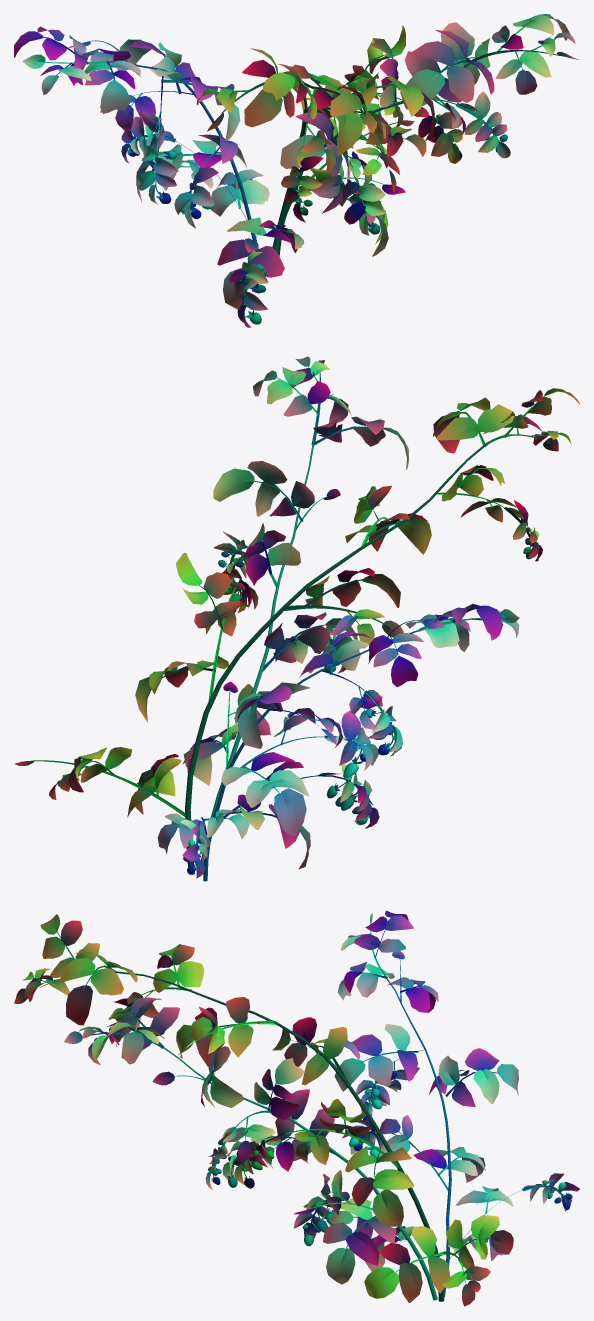
The model's file is Raspberry_wf0oefeja_High_wf0oefeja_VarH_LOD0.fbx.
3 renders of one model, top to bottom at view 1: azimuth 30°, elevation 25°; view 2: azimuth 150°, elevation 25°; view 3: azimuth 270°, elevation 25°, orthographic. The views are drawn at different scales.
Parts seen in each view (by area): view 1: _0w3a_VarH_LOD0; view 2: _0w3a_VarH_LOD0; view 3: _0w3a_VarH_LOD0.
Boxes of the visible parts, x1,y1,x2,y2 form: _0w3a_VarH_LOD0: [14, 14, 578, 327]; _0w3a_VarH_LOD0: [14, 356, 579, 881]; _0w3a_VarH_LOD0: [14, 910, 579, 1306].
Bounding box in the file's own units: 65.86 × 51.7 × 81.85.
